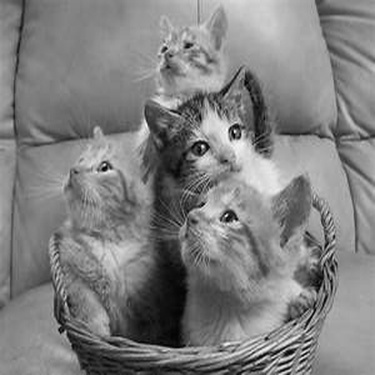cat: (144, 66, 260, 356), (175, 165, 313, 358), (60, 115, 156, 339), (134, 2, 225, 188)
